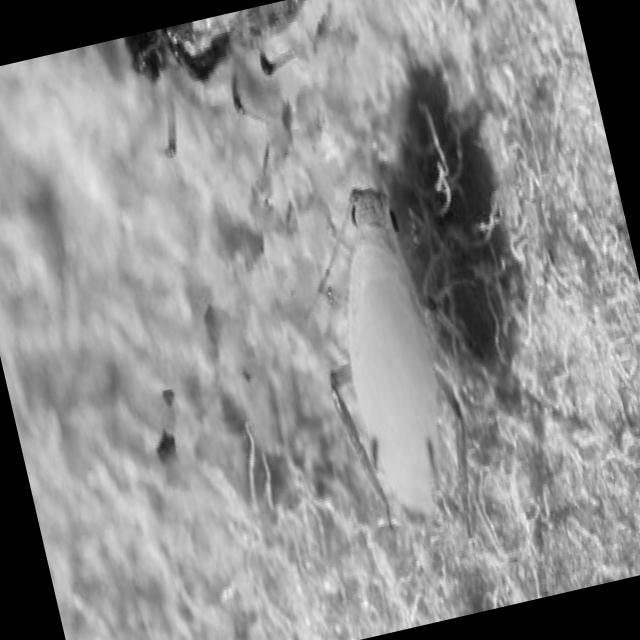Aphids: (280, 120, 498, 580)
